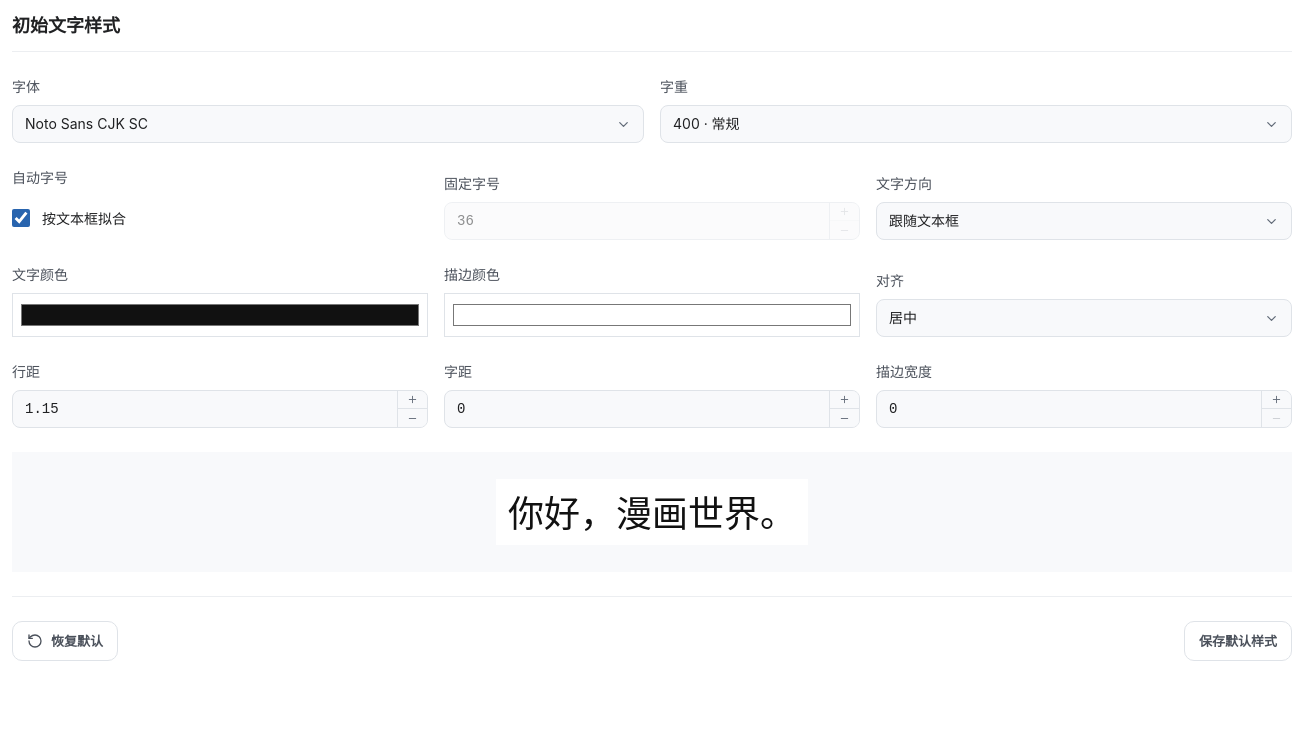
default text style settings › persists defaults and applies them only to newly created boxes
Check: the field named "默认固定字号" holds "36", box [445, 203, 829, 239]
Click the checkbox labelled "按文本框拟合": (21, 218) [12, 209, 30, 227]
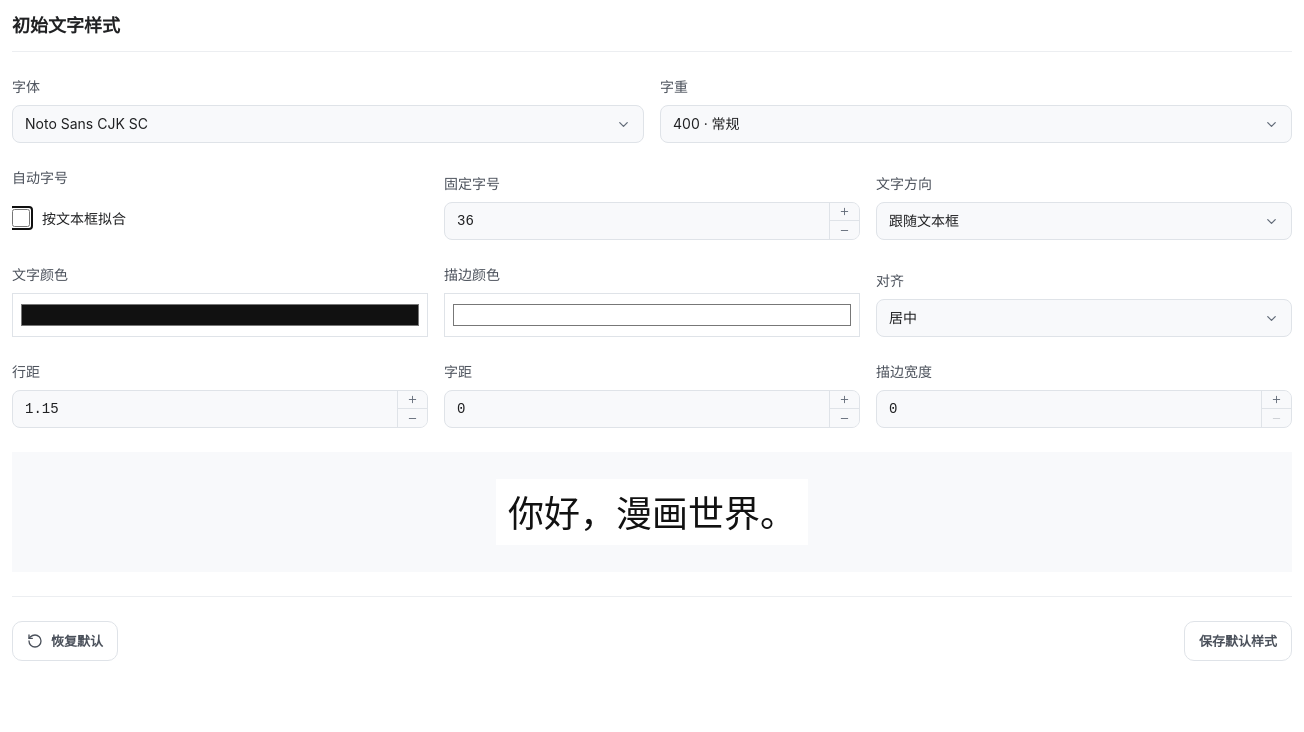
Replace the text in the field named "默认固定字号" with "42": (637, 221) [445, 203, 829, 239]
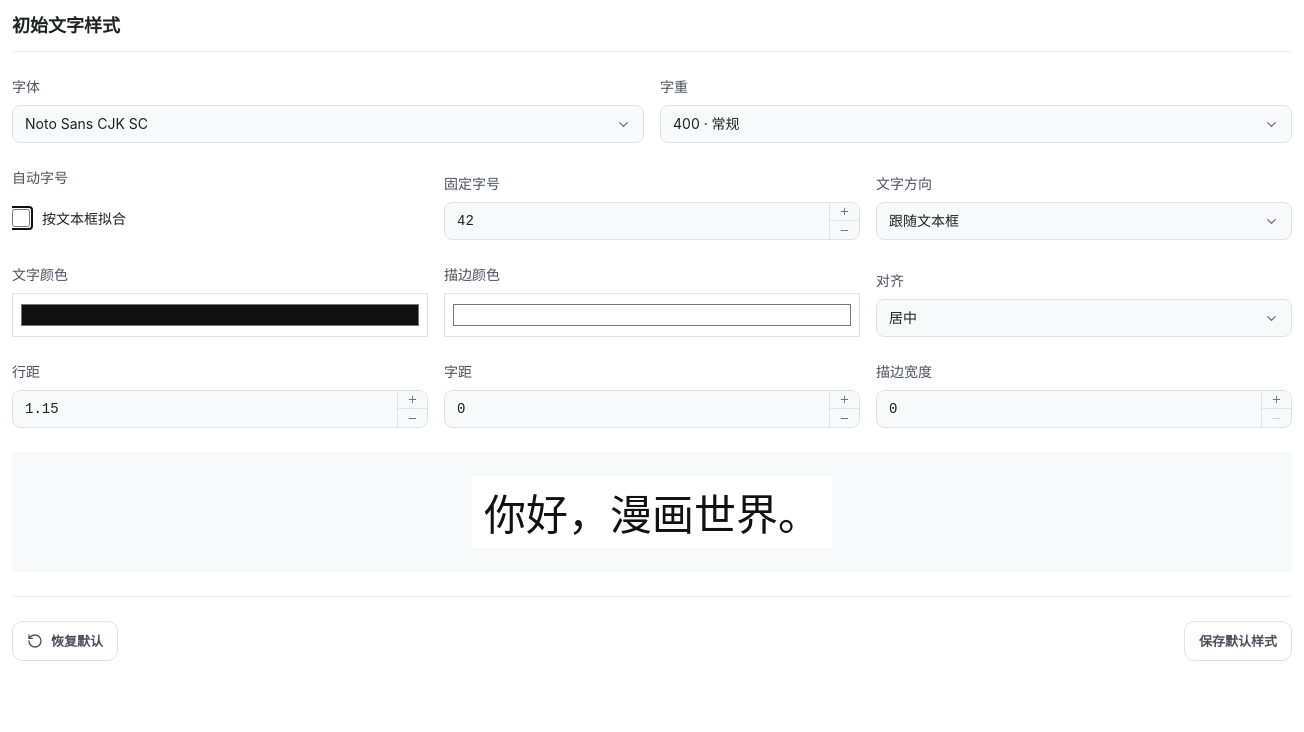
Click the button with aria-label "默认文字方向": (924, 220) [876, 202, 1292, 240]
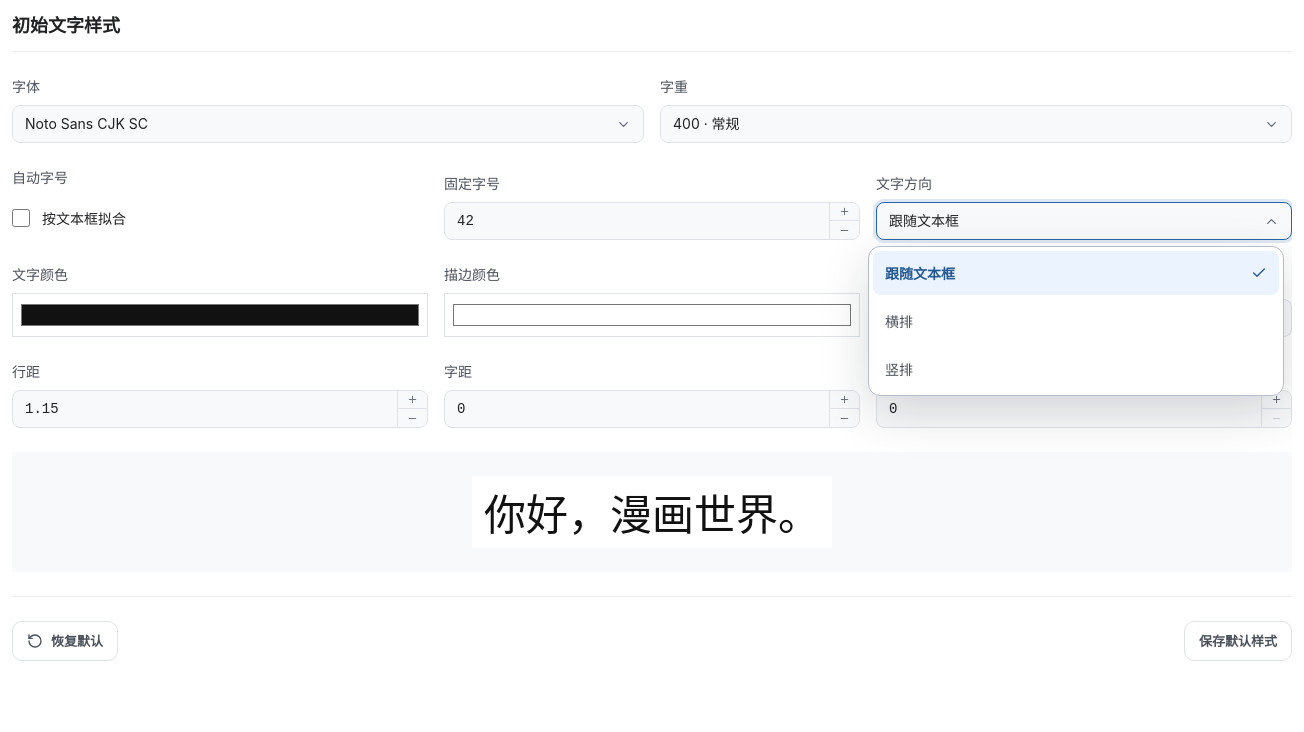
Click the option "横排": (899, 321) [873, 299, 1279, 343]
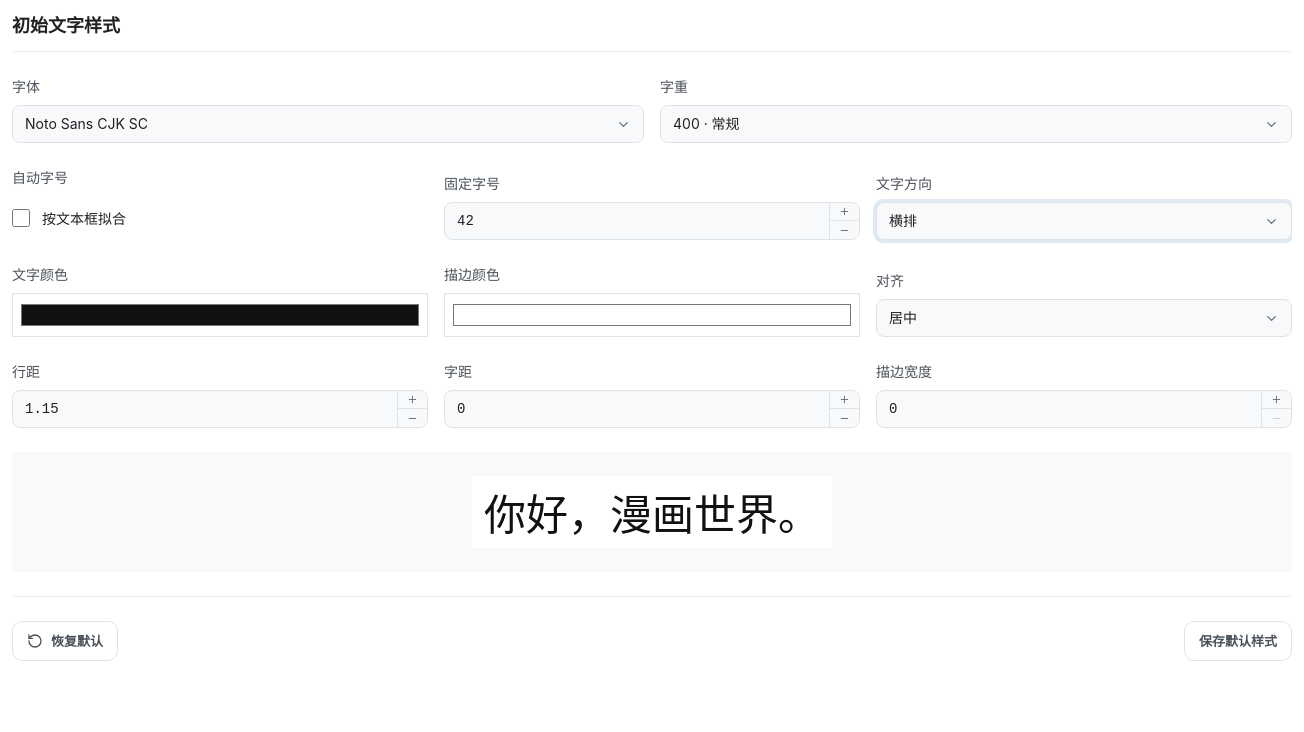
Click the button "保存默认样式": (1238, 641) [1184, 621, 1292, 661]
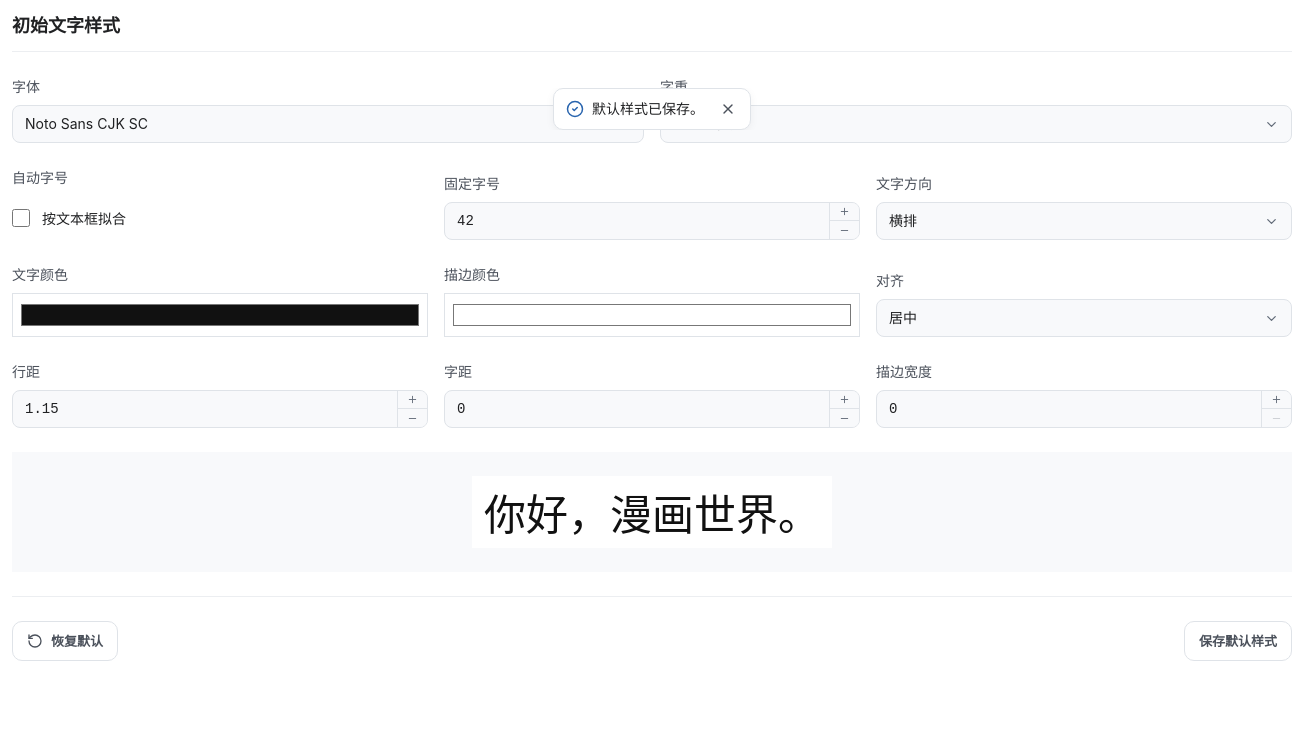
Check: the message named "保存成功" reads "默认样式已保存。", box [592, 100, 704, 117]
Click the button named "关闭提示": (728, 109) [712, 93, 744, 125]
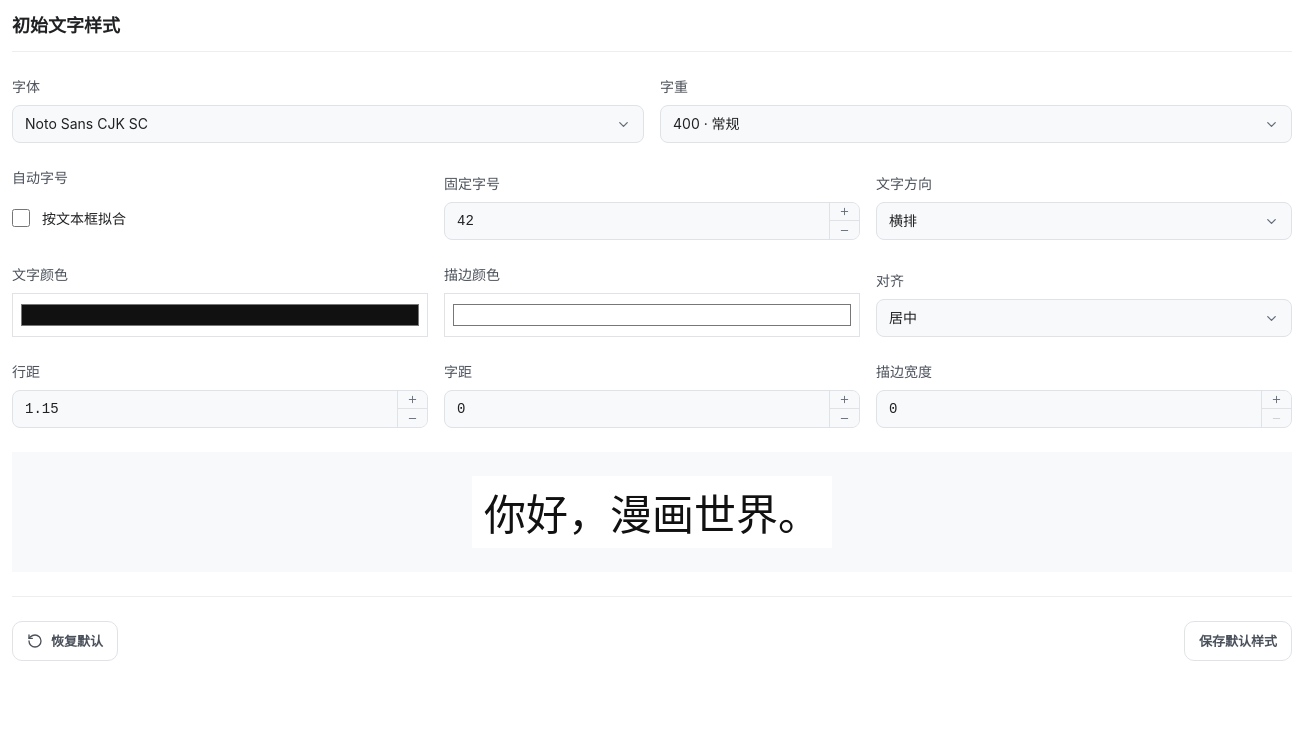
Check: the button "保存默认样式" is enabled, box [1184, 621, 1292, 661]
Check: the text "默认样式已保存。" is gone
